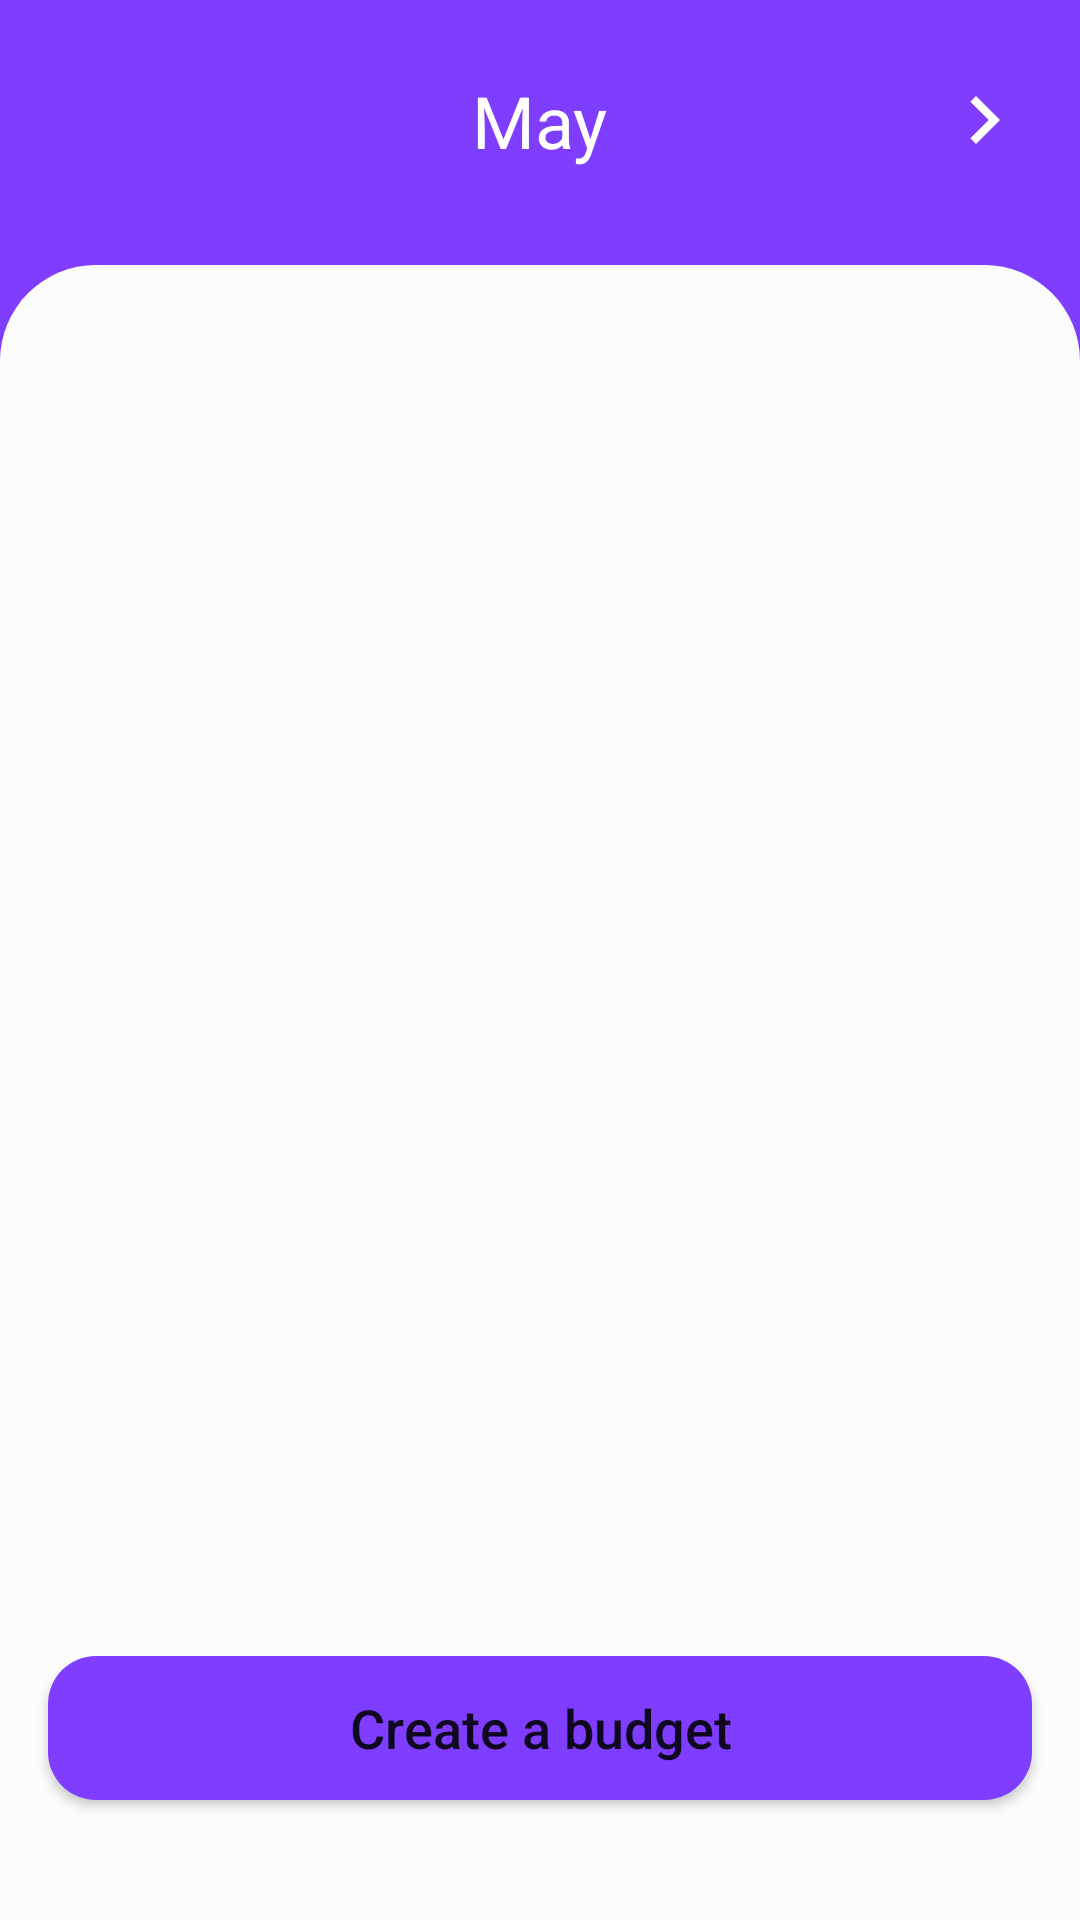

Icons on this 1080*1920 Android screen, each with its box as {"x1": x1, "y1": y1, "x2": x2, "y2": y2}:
keyboard arrow right: {"x1": 970, "y1": 96, "x2": 1000, "y2": 144}
